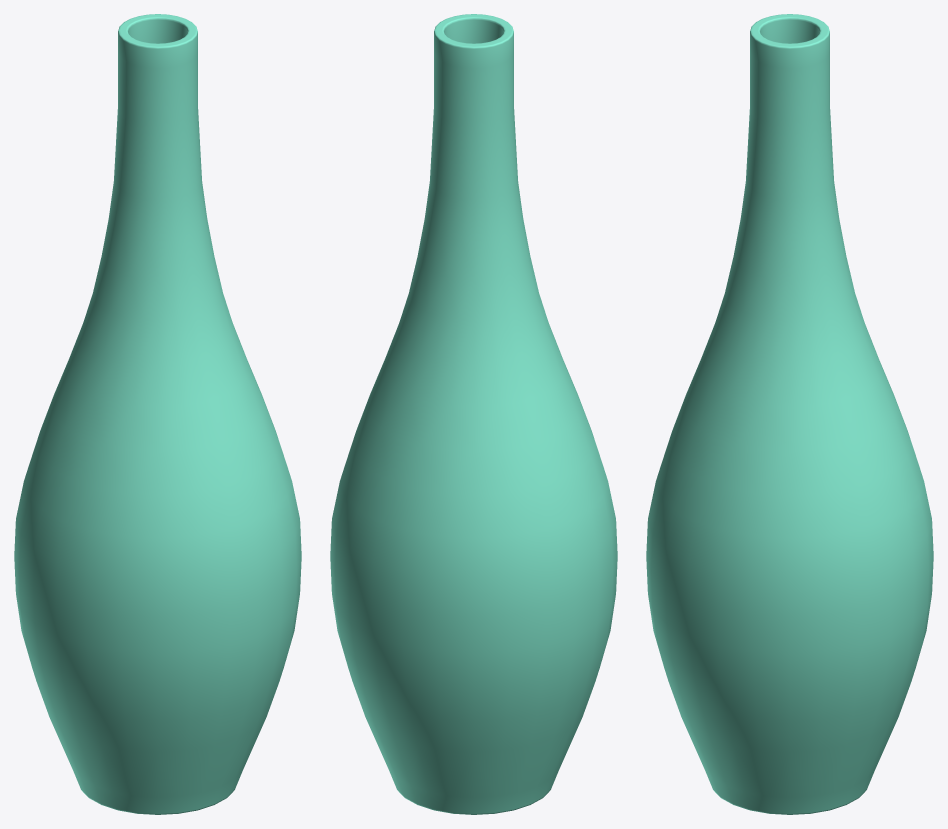
File: VaseBlue.glb
3 renders of one model, left to right at view 1: azimuth 30°, elevation 25°; view 2: azimuth 150°, elevation 25°; view 3: azimuth 270°, elevation 25°, orthographic.
Parts seen in each view (by area): view 1: Vase_01; view 2: Vase_01; view 3: Vase_01.
Part boxes in pixels (x1,y1,x2,y2): Vase_01: [14, 14, 301, 814]; Vase_01: [330, 14, 617, 814]; Vase_01: [646, 14, 933, 814].
Bounding box in the file's own units: 10.4 × 30 × 10.4.
